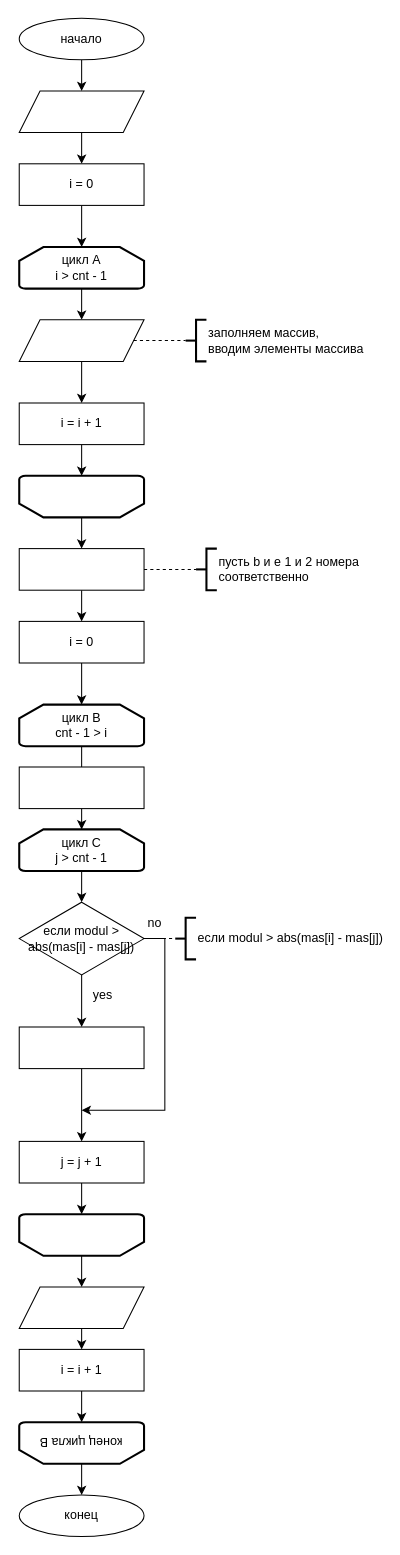
Image size: 400x1555. Some labels were removed from this diagram. The shapes that lost their labels are listed below. From the top down, each one's centre as x and y in pixels, then its label:
[81,111]: вводим cnt
[81,340]: вводим mas[i]
[81,496]: Конец цикла A
[81,569]: b = 1, e = 2, modul = abs(mas[b] - mas[e])
[81,787]: j = i + 1
[81,1047]: b = i, e = j, modul = abs(mas[i] - mas[j])
[81,1234]: конец цикла C
[81,1307]: выводим b, e, mas
